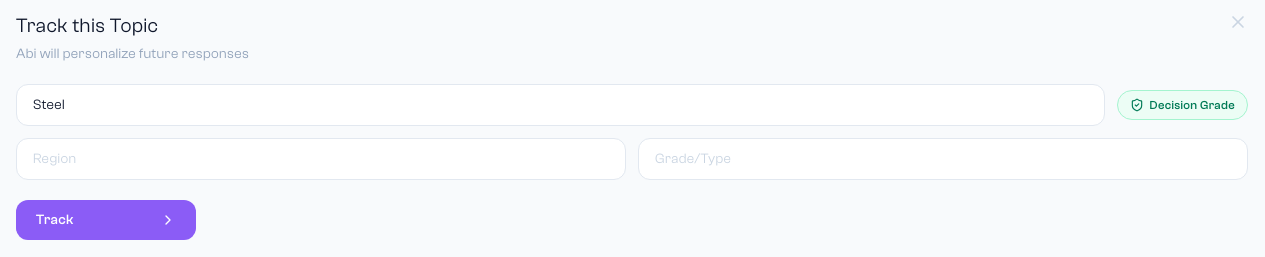
Test: InterestTrackingPanel › Editable name › disables save when name is empty
The image size is (1265, 257).
Clear the field with test id "detected-topic" at (560, 105), box [16,84,1105,126]
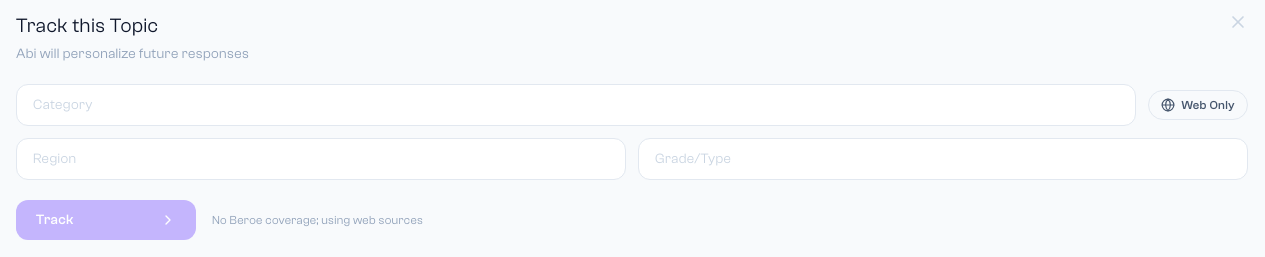
Check: the button with test id "save-button" is disabled, box [16,200,196,240]
